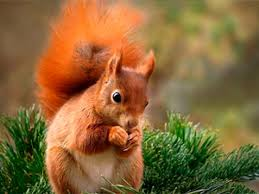Ardilla: (42, 59, 165, 187)
